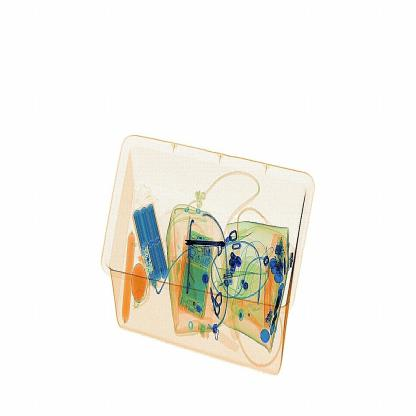knife: (189, 238, 234, 252)
